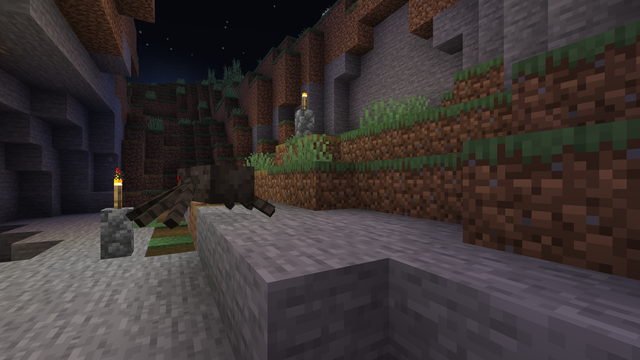araignees: (152, 157, 262, 229)
